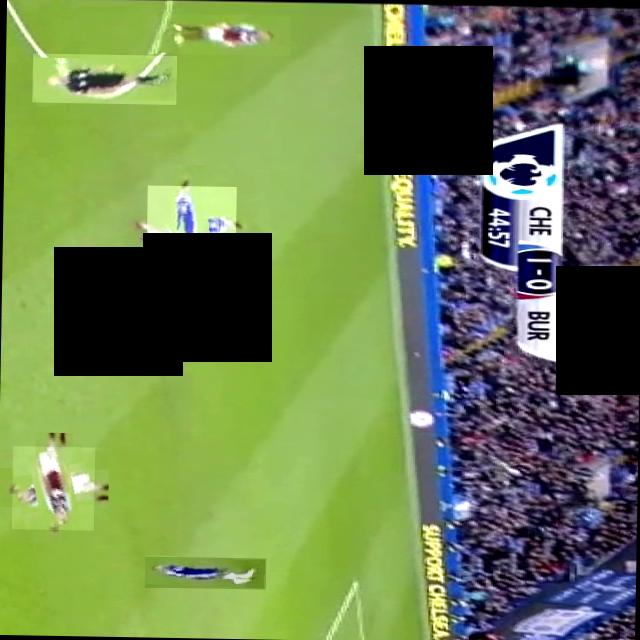referee: (31, 52, 176, 104)
soccer-player: (144, 184, 236, 276), (10, 446, 94, 530), (160, 14, 289, 56), (143, 556, 265, 589)
